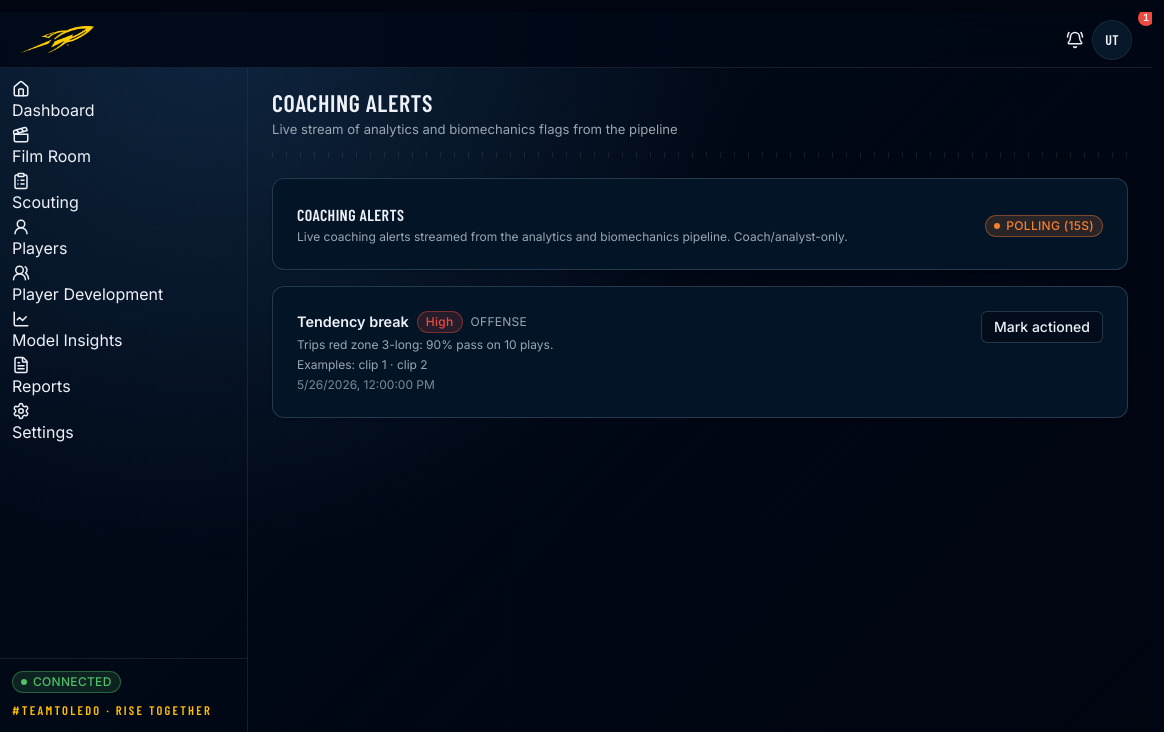
Test: AlertsPage tendency-break rendering › Mark actioned PATCHes and reflects the actioned state
Click the button with test id "action-al-1". click: (1042, 327)
box: [981, 311, 1103, 343]
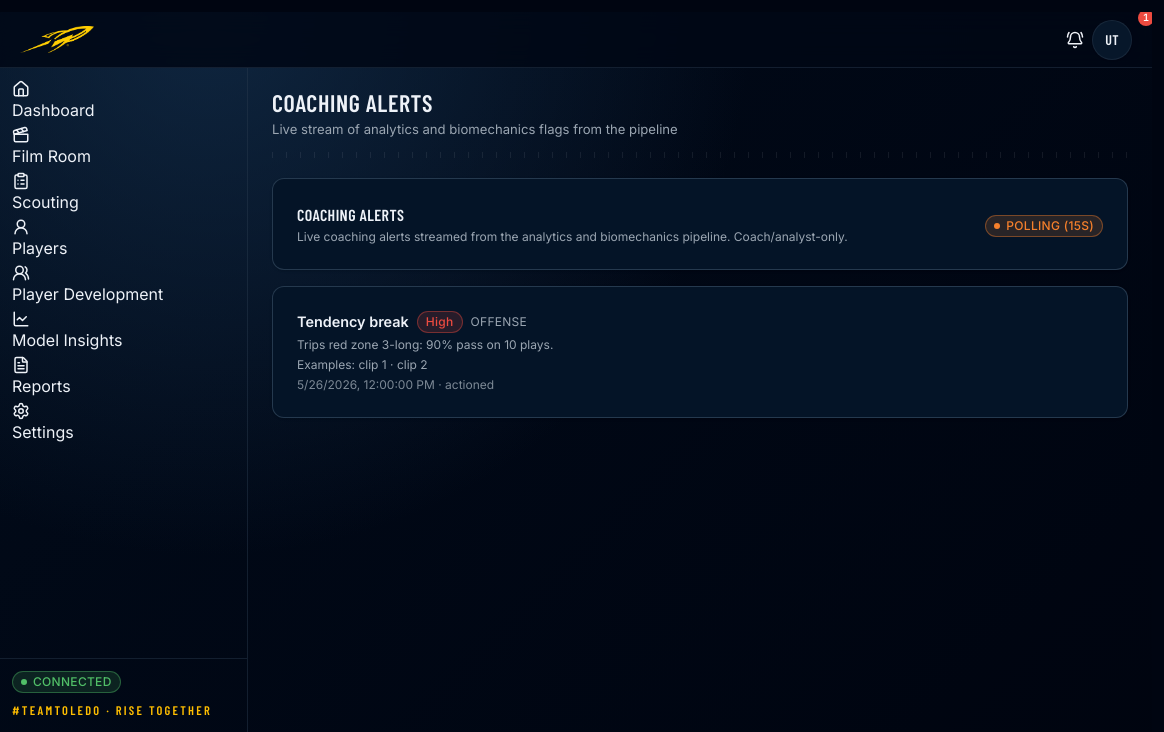
Expected: the button with test id "action-al-1" is gone
